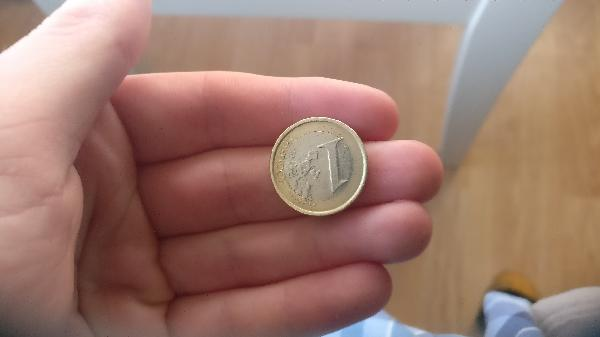One Euro: (268, 115, 370, 216)
